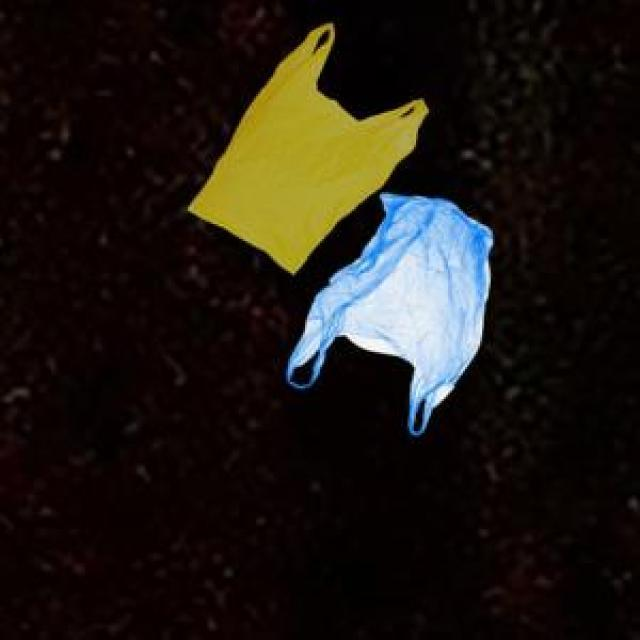waste: (189, 24, 429, 273), (285, 192, 492, 436)
